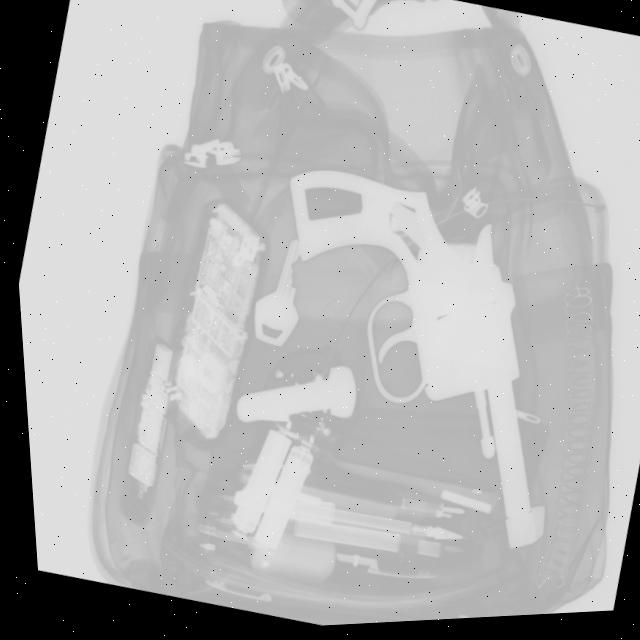pistol: (208, 152, 612, 572)
